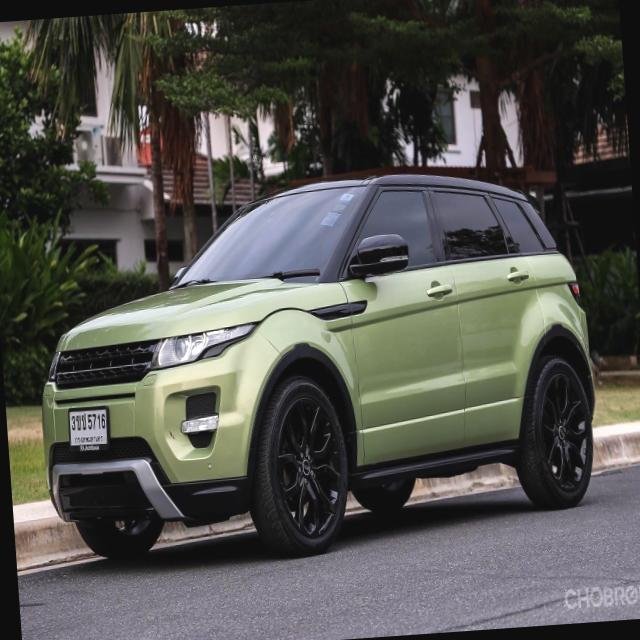license_plate: (65, 402, 112, 459)
